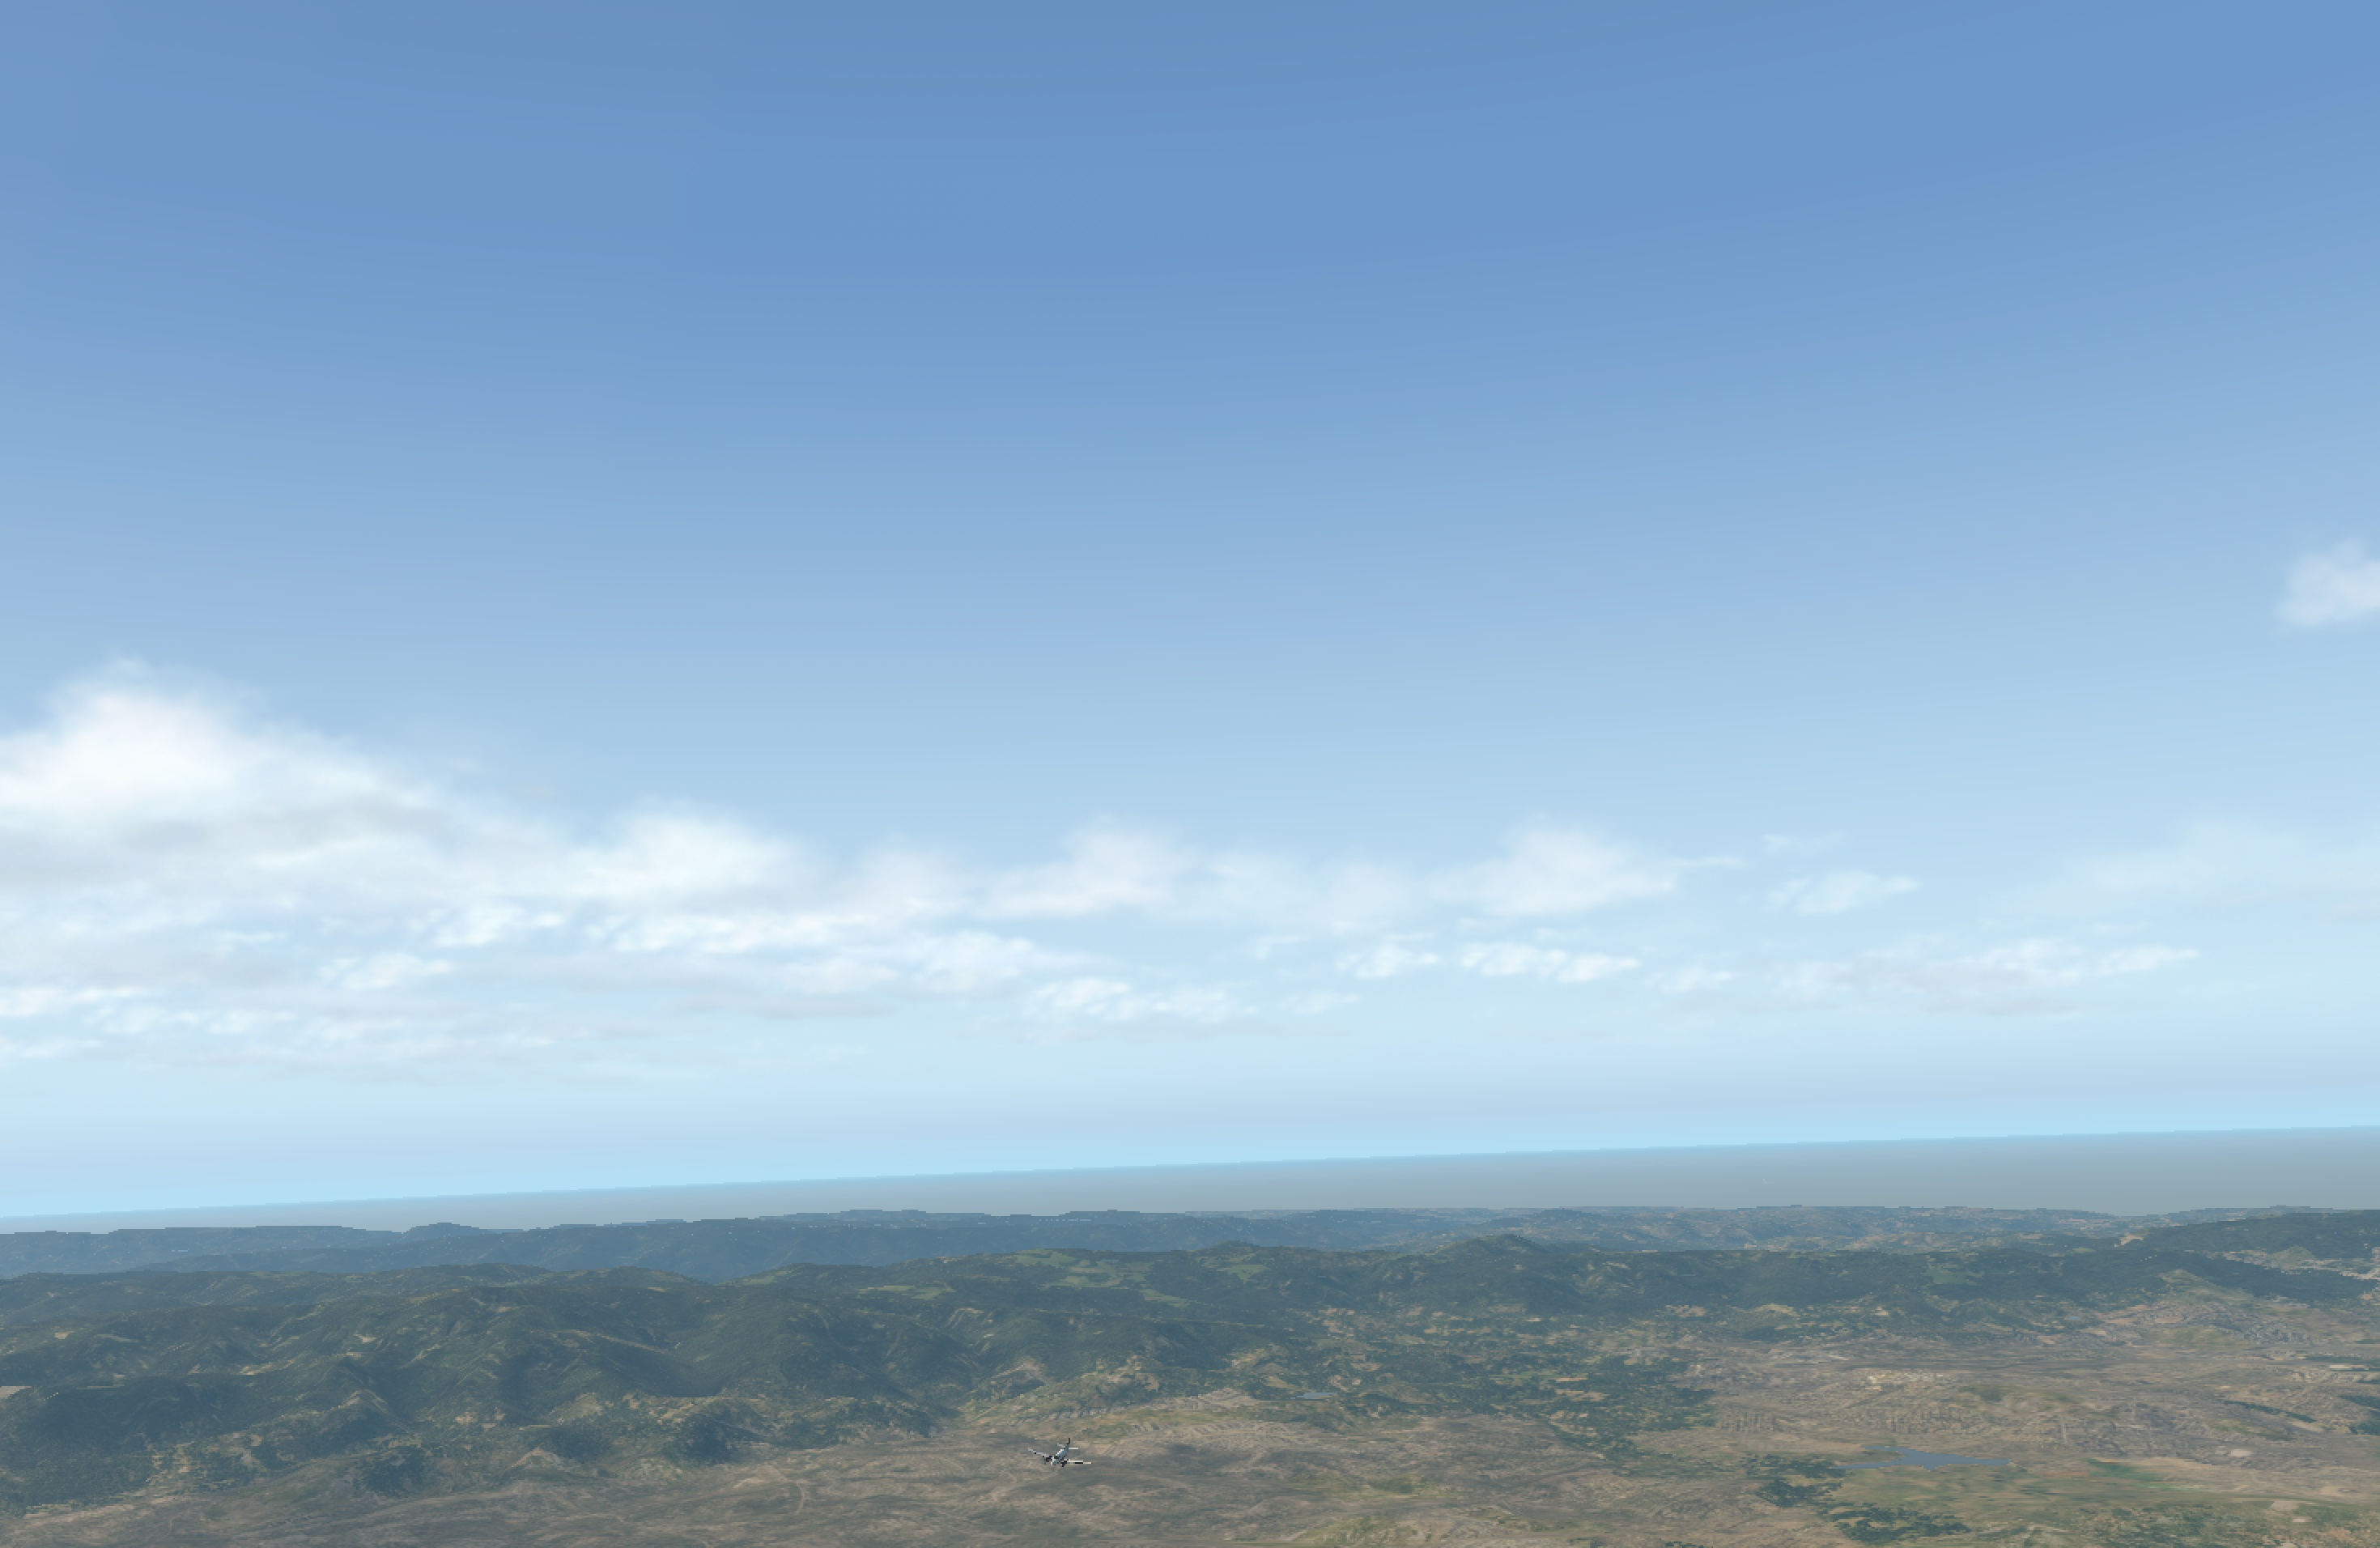aircraft: (1023, 1449, 1091, 1473)
